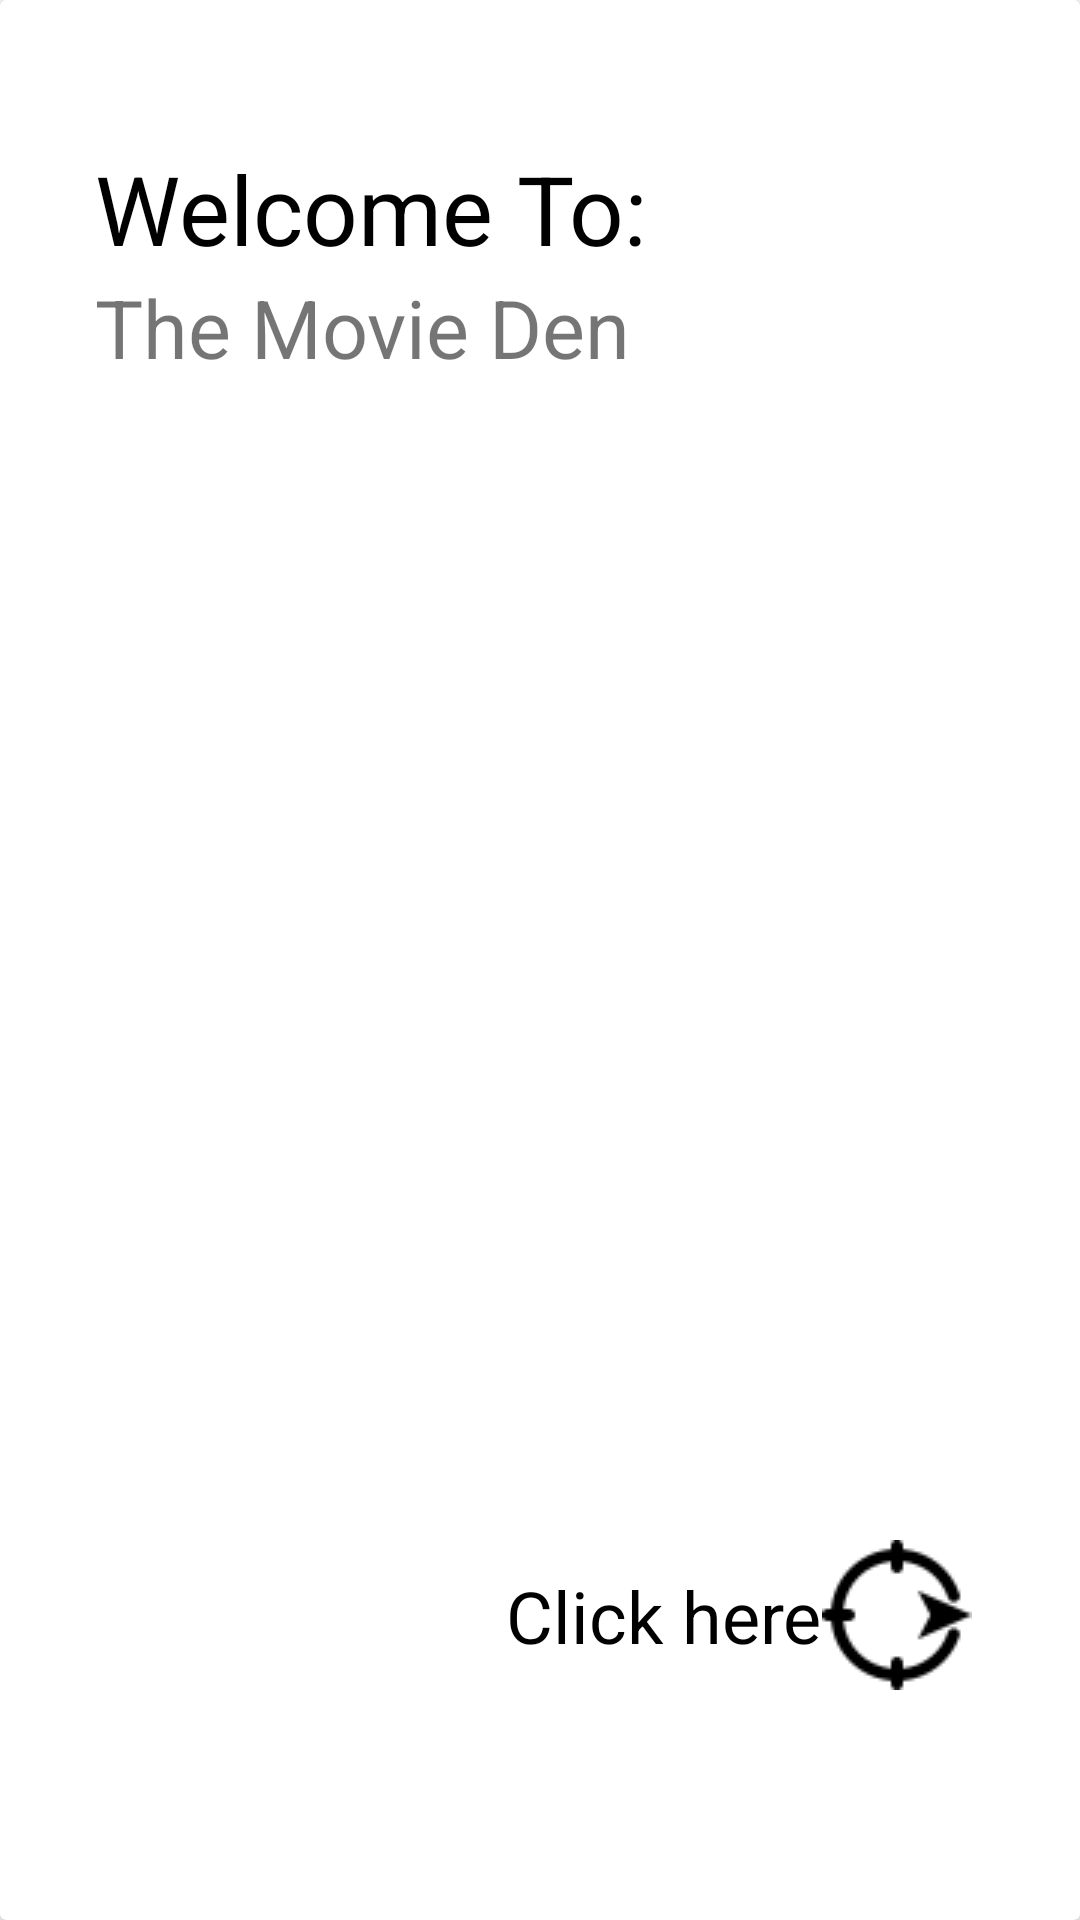

Screen size 1080px×1920px. Icon name, then its box in pixels as (x1, y1, x2, y2):
navigate: (822, 1540, 972, 1690)
